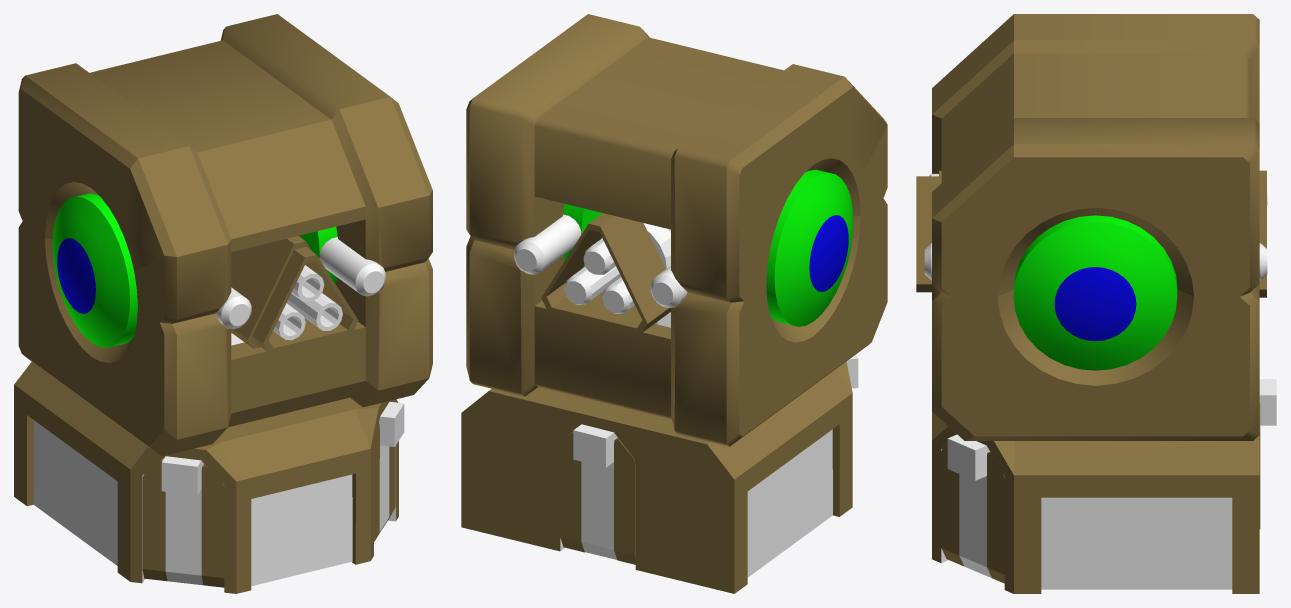
Rendered from LTtest01.FBX.
3 renders of one model, left to right at view 1: azimuth 30°, elevation 25°; view 2: azimuth 150°, elevation 25°; view 3: azimuth 270°, elevation 25°, orthographic. The views are drawn at different scales.
Visible parts, largest first — view 1: Box062, polySurface131, Box059, Box061, polySurface132, polySurface133, Cylinder077, Box060, polySurface136, polySurface135, Cylinder079, polySurface125 (+9 smaller); view 2: Box062, polySurface131, Box059, Box061, polySurface132, polySurface133, Cylinder077, Box060, polySurface136, polySurface135, polySurface125, polySurface126 (+8 smaller); view 3: Box062, Box061, Box060, Cylinder080, polySurface131, polySurface132, polySurface133, polySurface128, polySurface130, polySurface125.
Boxes of the visible parts, x1,y1,x2,y2 form: Box062: (14, 362, 404, 593); polySurface131: (18, 63, 231, 323); Box059: (18, 221, 231, 456); Box061: (220, 14, 432, 271); polySurface132: (90, 56, 298, 251); polySurface133: (156, 40, 365, 235); Cylinder077: (52, 193, 137, 347); Box060: (336, 258, 432, 407); polySurface136: (228, 342, 298, 427); polySurface135: (284, 322, 365, 413); Cylinder079: (319, 237, 385, 296); polySurface125: (231, 236, 311, 292); Box062: (461, 354, 858, 593); polySurface131: (671, 64, 887, 302); Box059: (671, 198, 887, 446); Box061: (466, 14, 649, 249); polySurface132: (602, 54, 783, 229); polySurface133: (534, 37, 715, 212); Cylinder077: (766, 169, 853, 326); Box060: (466, 236, 564, 396); polySurface136: (602, 323, 671, 419); polySurface135: (534, 300, 605, 403); polySurface125: (565, 213, 656, 275); polySurface126: (594, 251, 670, 332); Box062: (932, 379, 1276, 593); Box061: (932, 118, 1259, 296); Box060: (932, 284, 1259, 440); Cylinder080: (1013, 215, 1177, 370); polySurface131: (932, 14, 1259, 173); polySurface132: (941, 53, 1249, 152); polySurface133: (941, 88, 1249, 182); polySurface128: (916, 176, 938, 227); polySurface130: (916, 228, 931, 292); polySurface125: (939, 170, 1266, 232).
Bounding box in the file's own units: 174 × 167 × 228.
